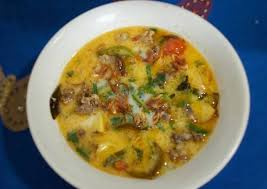soto: (45, 20, 243, 176)
